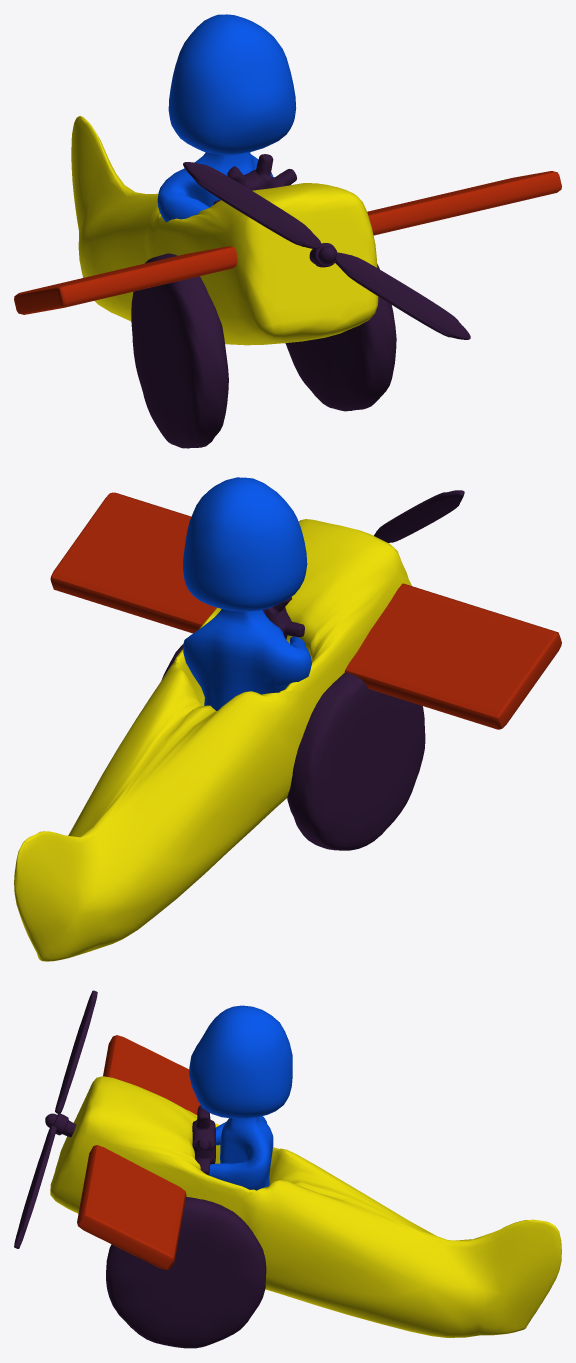
Rendered from NinjaDogPlane.fbx.
The picture shows the model from 3 angles, top to bottom: view 1: azimuth 30°, elevation 25°; view 2: azimuth 150°, elevation 25°; view 3: azimuth 270°, elevation 25°; orthographic projection. The views are drawn at different scales.
Parts seen in each view (by area): view 1: polySurface39, polySurface40, polySurface38, pCube32, polySurface41, polySurface37, polySurface42; view 2: polySurface39, pCube32, polySurface40, polySurface38, polySurface37, polySurface42; view 3: polySurface39, polySurface41, polySurface40, pCube32, polySurface37, polySurface42.
Boxes of the visible parts, x1,y1,x2,y2 form: polySurface39: (71, 116, 378, 345); polySurface40: (157, 14, 296, 222); polySurface38: (131, 253, 228, 448); pCube32: (14, 171, 561, 314); polySurface41: (285, 263, 396, 411); polySurface37: (183, 162, 470, 339); polySurface42: (213, 154, 296, 204); polySurface39: (14, 519, 411, 961); pCube32: (50, 492, 561, 729); polySurface40: (183, 477, 311, 710); polySurface38: (287, 672, 425, 850); polySurface37: (374, 490, 464, 542); polySurface42: (263, 597, 304, 639); polySurface39: (50, 1076, 561, 1337); polySurface41: (106, 1197, 266, 1348); polySurface40: (189, 1005, 292, 1190); pCube32: (77, 1035, 200, 1269); polySurface37: (14, 990, 97, 1248); polySurface42: (192, 1105, 215, 1175).
Bounding box in the file's own units: 4.56 × 3.4 × 5.4.
